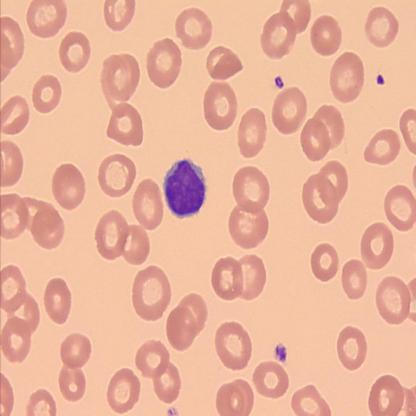Lymphocyte: (162, 158, 208, 221)
